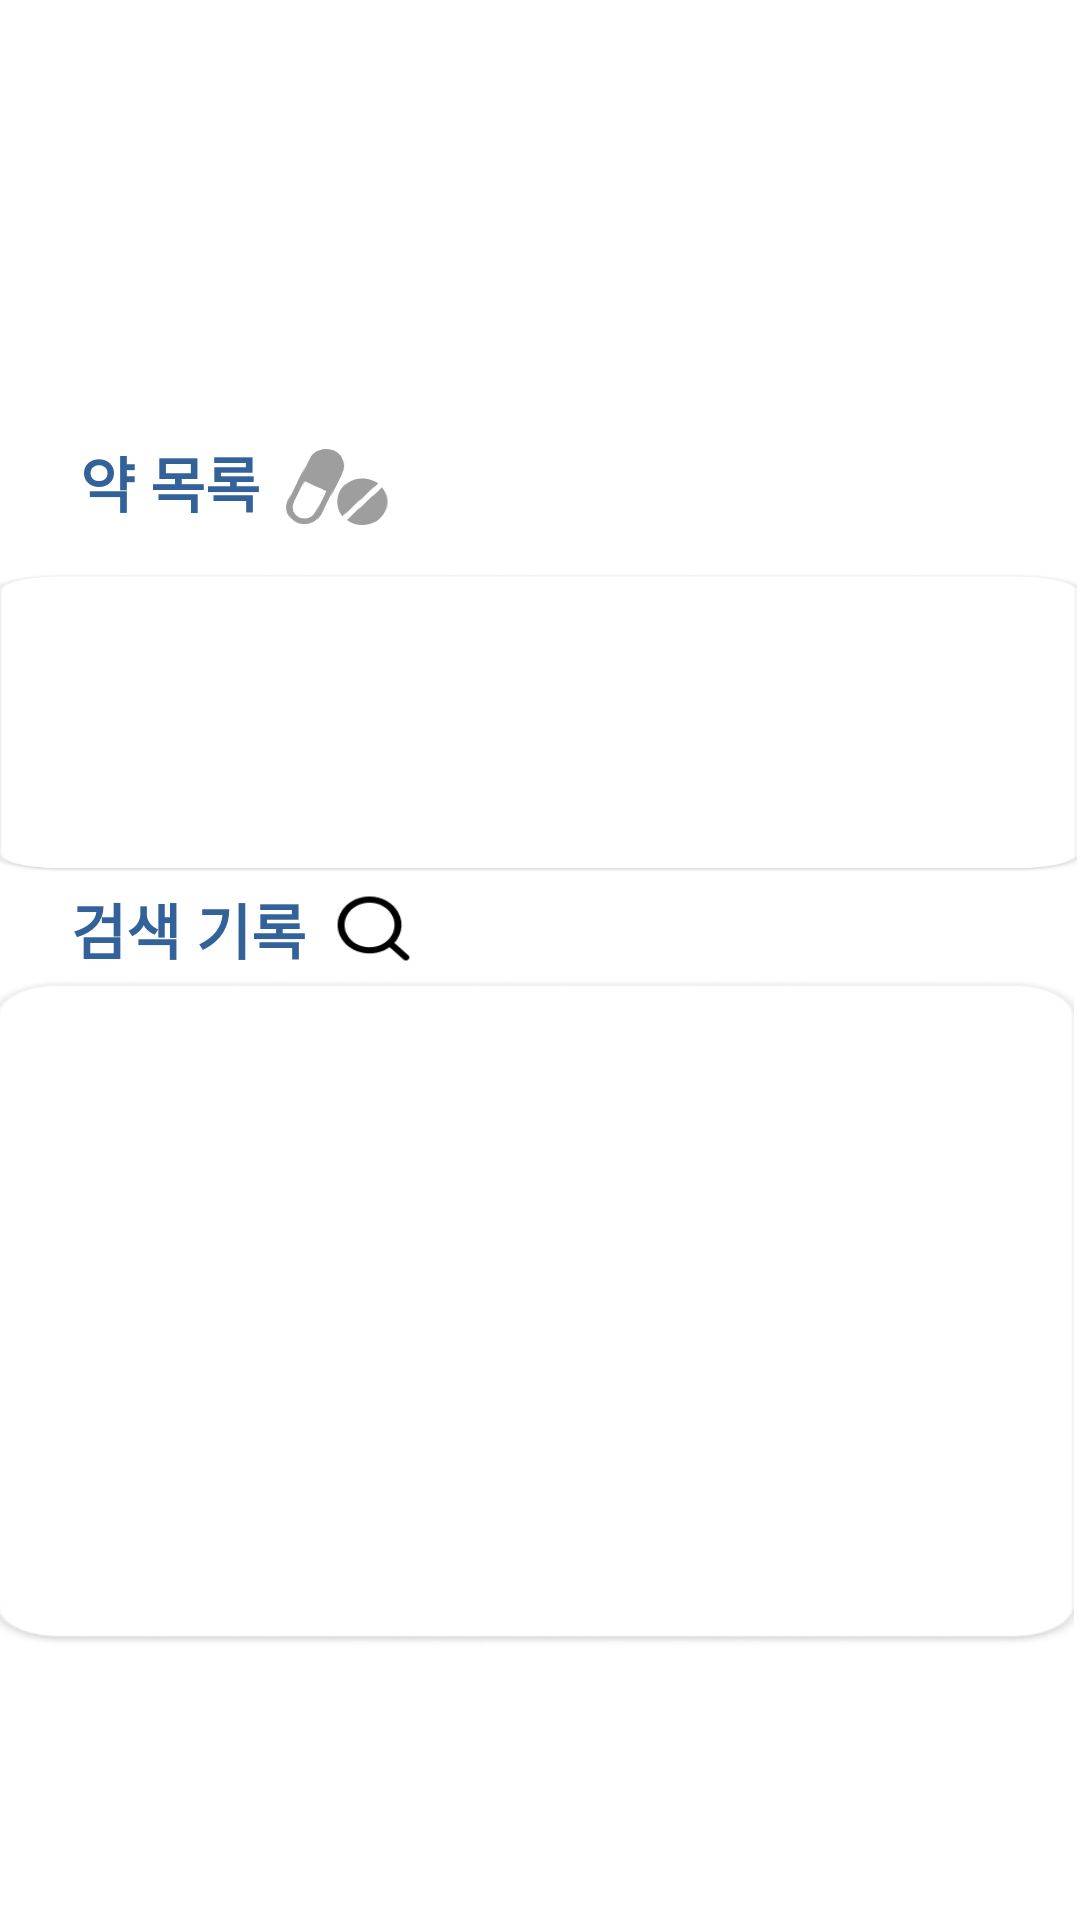

Icons on this 1080px×1920px Android screen, each with the point to tap as [x,y]:
pill: [337,487]
searchicon: [373,928]
